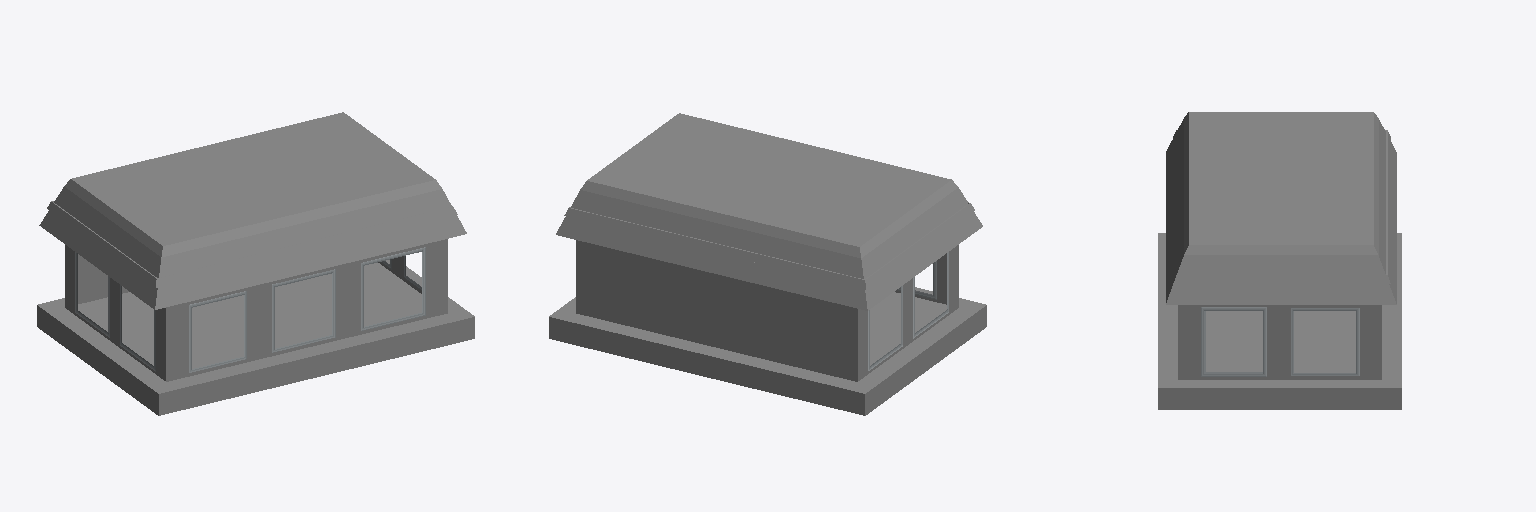
3 renders of one model, left to right at view 1: azimuth 30°, elevation 25°; view 2: azimuth 150°, elevation 25°; view 3: azimuth 270°, elevation 25°, orthographic.
Parts seen in each view (by area): view 1: polySurface14, Box002, Box003, polySurface17, Plane003, Plane002, Plane001; view 2: polySurface14, Box003, Box002, polySurface17; view 3: polySurface14, Box002, Box003, polySurface17, Plane005, Plane006.
Part boxes in pixels (x1,y1,x2,y2): polySurface14: (39,112,466,309); Box002: (37,260,474,415); Box003: (65,239,447,381); polySurface17: (47,201,457,287); Plane003: (361,247,425,330); Plane002: (272,269,335,352); Plane001: (189,291,246,372); polySurface14: (556,113,982,310); Box003: (576,240,958,381); Box002: (549,287,986,415); polySurface17: (564,202,974,289); polySurface14: (1166,112,1396,304); Box002: (1158,233,1401,409); Box003: (1178,305,1381,379); polySurface17: (1173,130,1390,283); Plane005: (1201,307,1266,376); Plane006: (1291,308,1359,375).
Size of the model in its own units: 90 by 41.72 by 60.
2 materials, 1 textured.